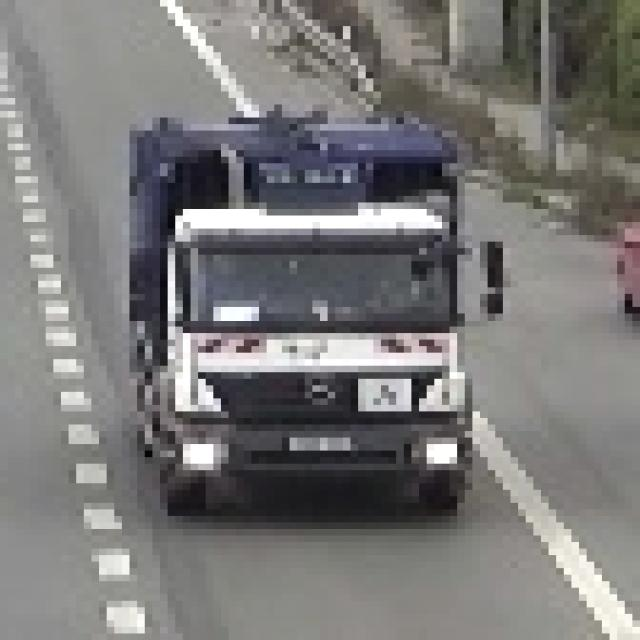truck: (108, 99, 496, 510)
